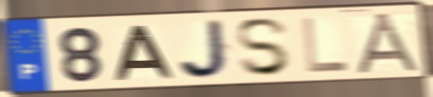8: (57, 25, 105, 85)
A: (353, 10, 426, 75), (112, 24, 177, 82)
J: (176, 18, 234, 81)
L: (300, 16, 352, 75)
S: (233, 16, 294, 79)
